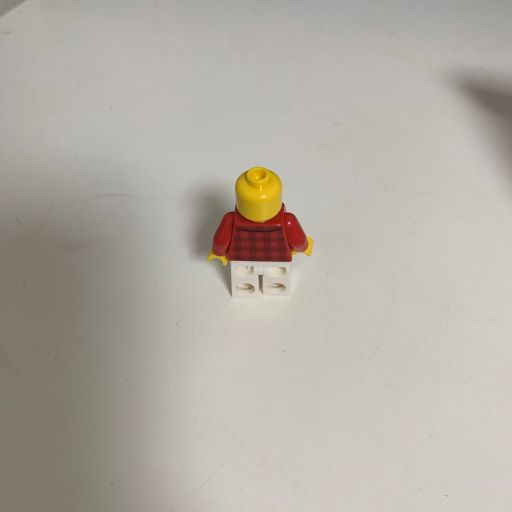human: (200, 154, 323, 305)
